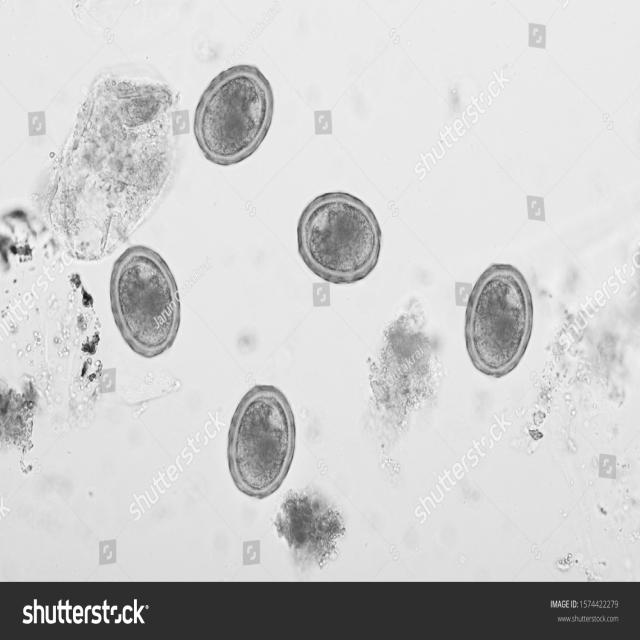Ascaris Lumbricoides: (456, 255, 542, 390), (189, 53, 277, 176), (292, 183, 387, 291), (106, 235, 183, 360), (223, 375, 300, 497)
